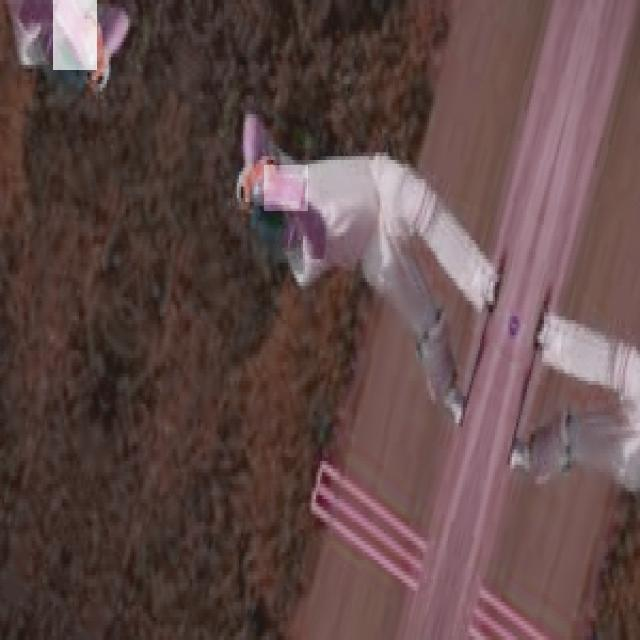bat: (264, 166, 309, 207)
